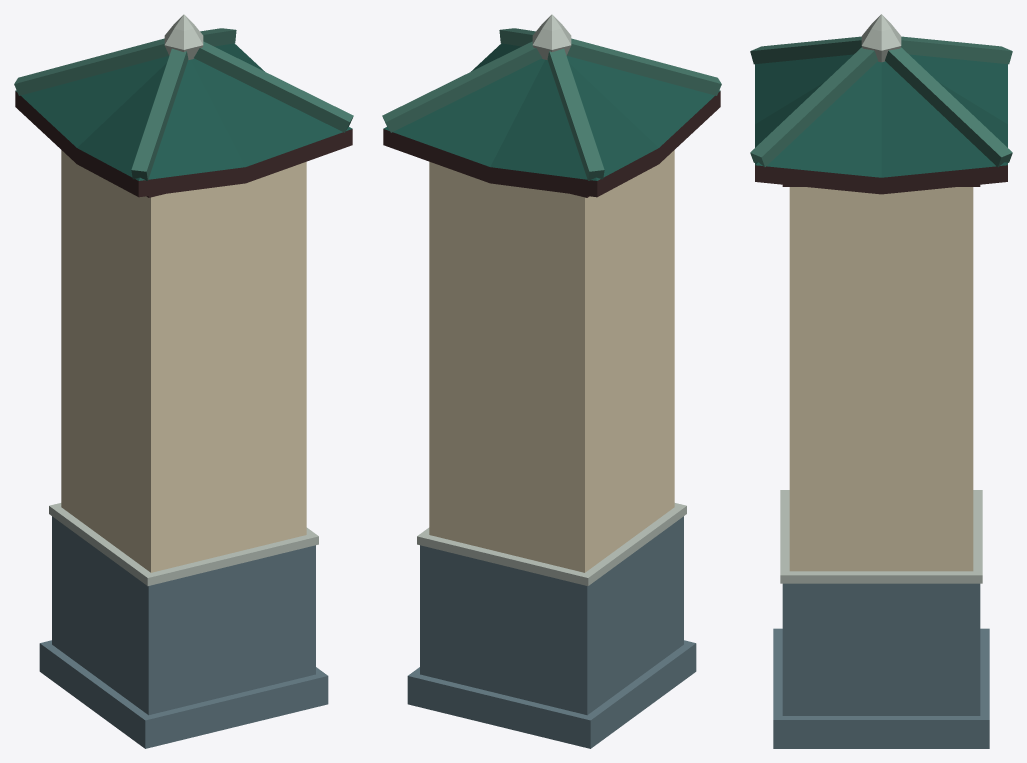
The model's file is wall_pier.glb.
The picture shows the model from 3 angles, left to right: view 1: azimuth 30°, elevation 25°; view 2: azimuth 150°, elevation 25°; view 3: azimuth 270°, elevation 25°; orthographic projection. The views are drawn at different scales.
Parts seen in each view (by area): view 1: WallPier / Plaster, WallPier / Stone, WallPier / Jade, WallPier / TileLight, WallPier / Timber, WallPier / Coping; view 2: WallPier / Plaster, WallPier / Stone, WallPier / Jade, WallPier / TileLight, WallPier / Timber, WallPier / Coping; view 3: WallPier / Plaster, WallPier / Stone, WallPier / Jade, WallPier / TileLight, WallPier / Coping, WallPier / Timber.
Part boxes in pixels (<box>): WallPier / Plaster: <box>61,150,306,572</box>; WallPier / Stone: <box>39,516,328,748</box>; WallPier / Jade: <box>15,43,352,180</box>; WallPier / TileLight: <box>14,28,353,180</box>; WallPier / Timber: <box>15,91,352,197</box>; WallPier / Coping: <box>49,14,318,585</box>; WallPier / Plaster: <box>429,150,674,572</box>; WallPier / Stone: <box>407,516,696,748</box>; WallPier / Jade: <box>383,43,720,180</box>; WallPier / TileLight: <box>382,28,721,180</box>; WallPier / Timber: <box>383,91,720,197</box>; WallPier / Coping: <box>417,14,686,585</box>; WallPier / Plaster: <box>789,187,973,571</box>; WallPier / Stone: <box>773,583,989,748</box>; WallPier / Jade: <box>755,54,1007,177</box>; WallPier / TileLight: <box>750,36,1012,167</box>; WallPier / Coping: <box>780,14,982,583</box>; WallPier / Timber: <box>755,165,1007,194</box>.
Bounding box in the file's own units: 1.14 × 3.31 × 1.14.
